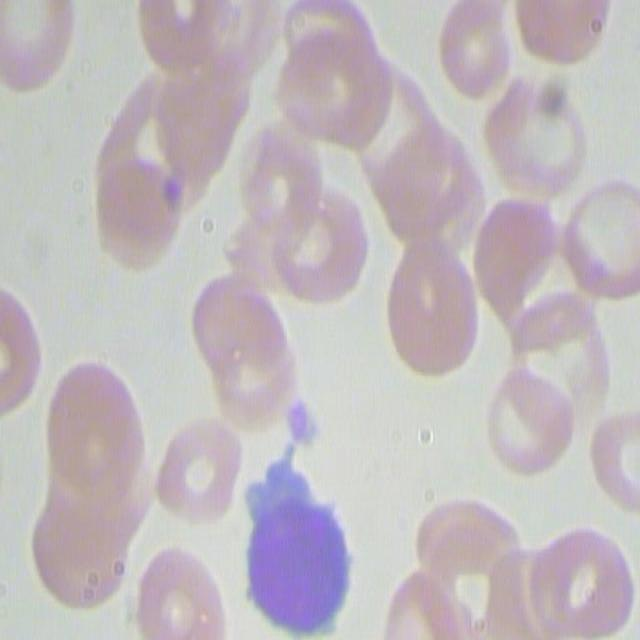RBC: (89, 75, 220, 267), (228, 135, 368, 313), (481, 186, 615, 360), (41, 356, 152, 531), (277, 0, 400, 156), (134, 0, 276, 119), (413, 493, 521, 640), (195, 279, 296, 436), (367, 125, 482, 260), (481, 74, 596, 207), (516, 522, 635, 638), (376, 242, 481, 372), (554, 165, 640, 308), (26, 496, 127, 608), (483, 365, 578, 481), (150, 416, 238, 531), (135, 540, 229, 638), (440, 1, 516, 110), (509, 0, 620, 64), (0, 0, 74, 88), (376, 566, 464, 640), (0, 281, 41, 423), (590, 409, 640, 516)
WBC: (228, 451, 359, 636)
platelets: (280, 395, 323, 453)
